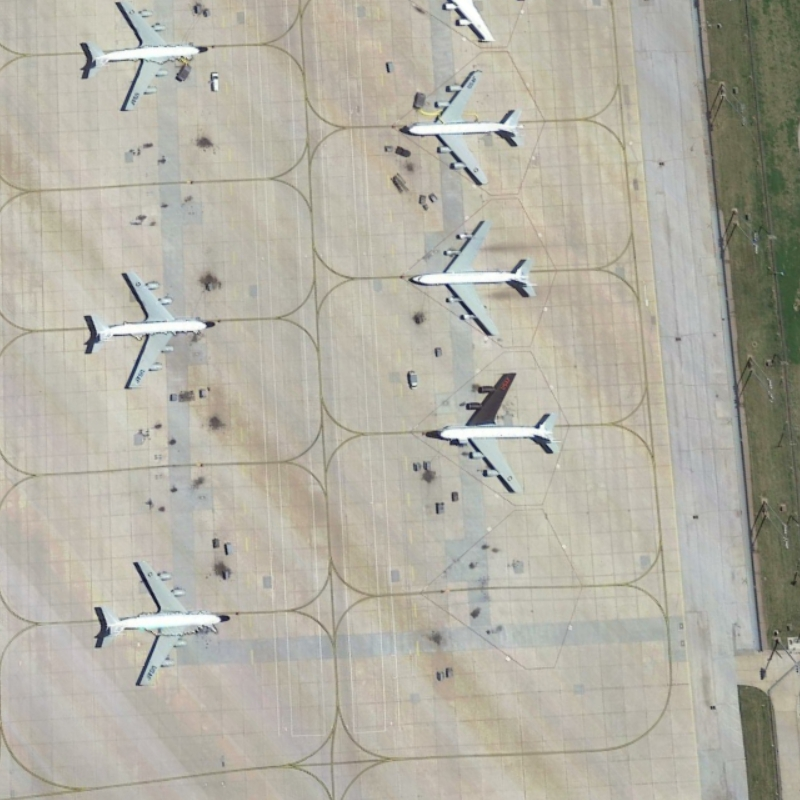A11: (85, 555, 233, 695), (76, 266, 226, 396), (419, 368, 562, 499), (403, 211, 541, 345), (392, 65, 526, 193), (71, 1, 212, 115)
